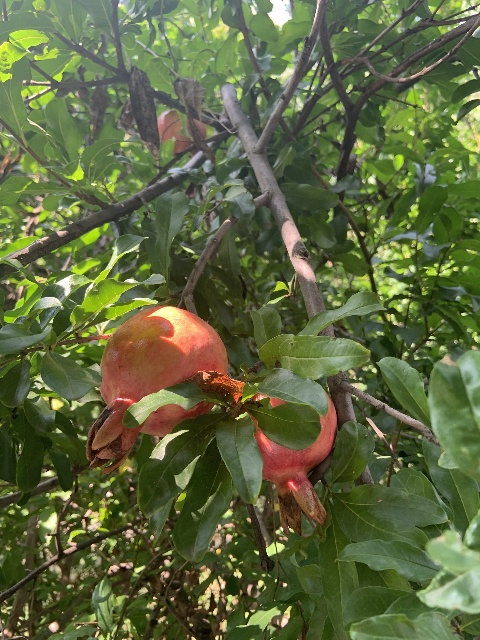ripe: (86, 305, 227, 474), (243, 392, 338, 536)
